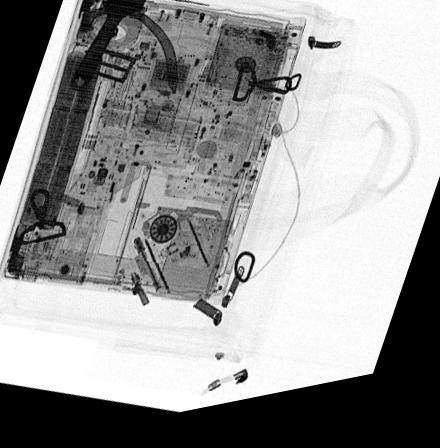Wrench: (68, 0, 147, 96)
